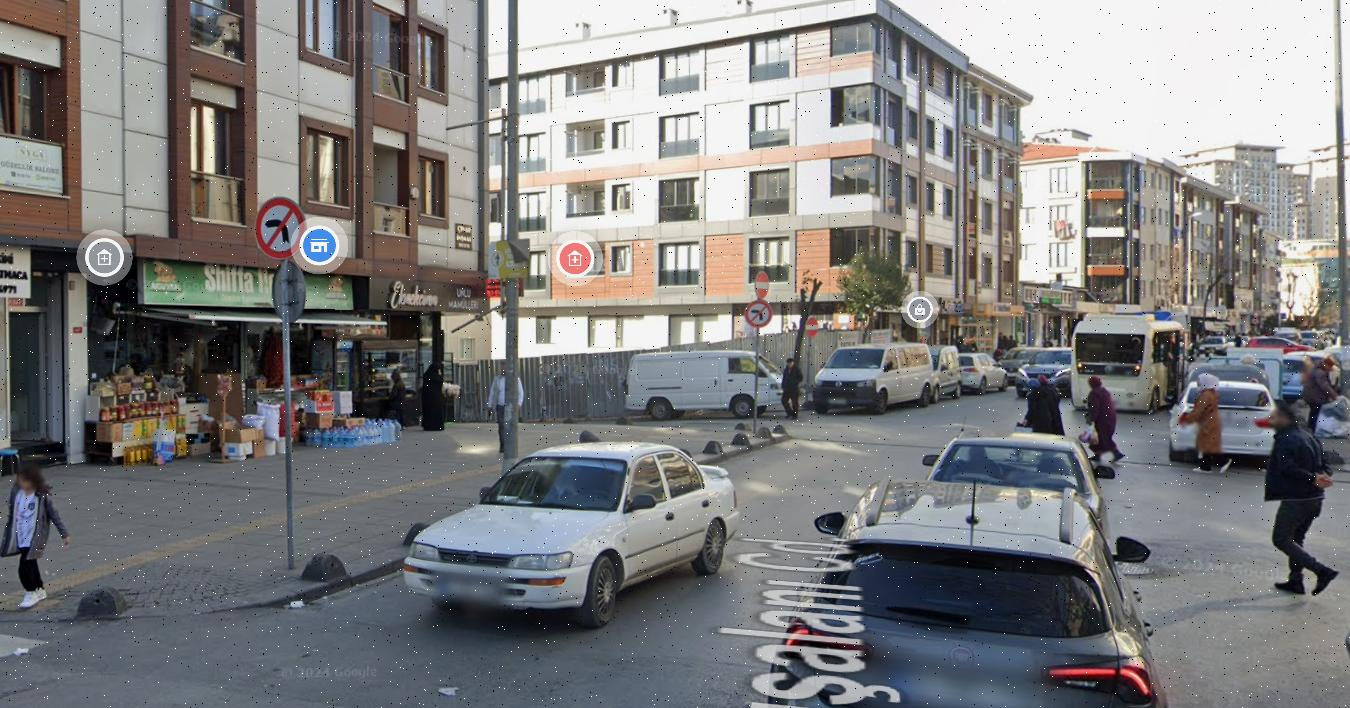leftturnsareforbidden: (257, 198, 303, 256), (745, 301, 773, 324)
